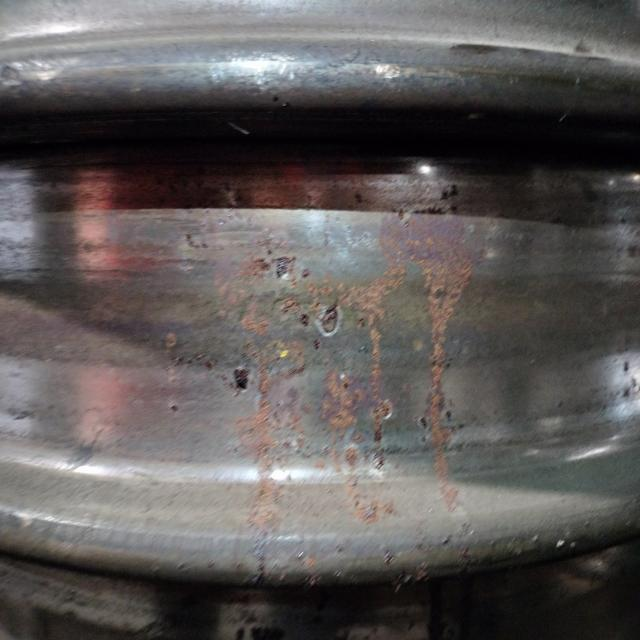Blue hole: (277, 268, 353, 360), (230, 349, 261, 421)
